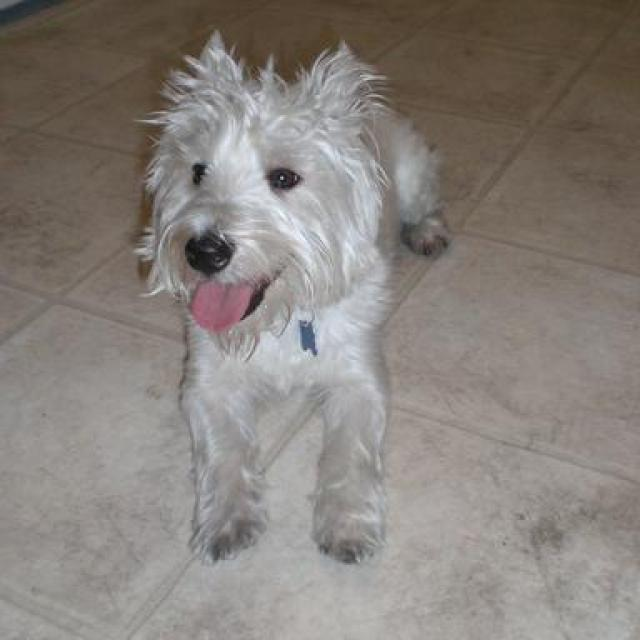happy: (110, 21, 468, 574)
